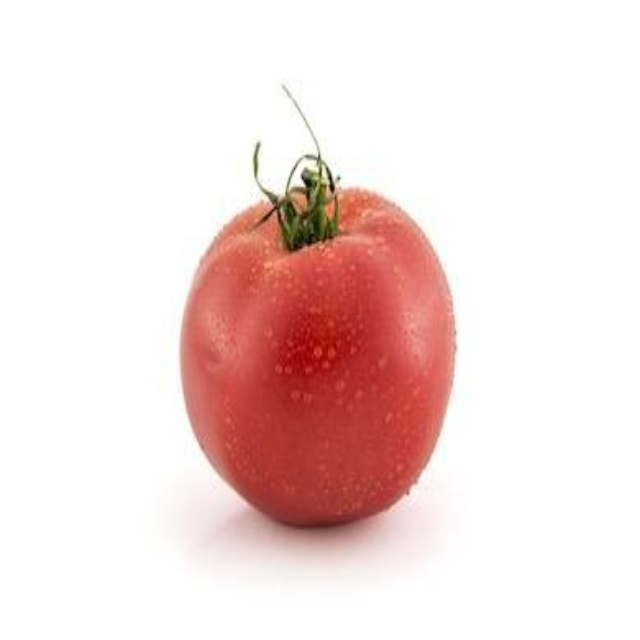tomato: (180, 92, 460, 548)
